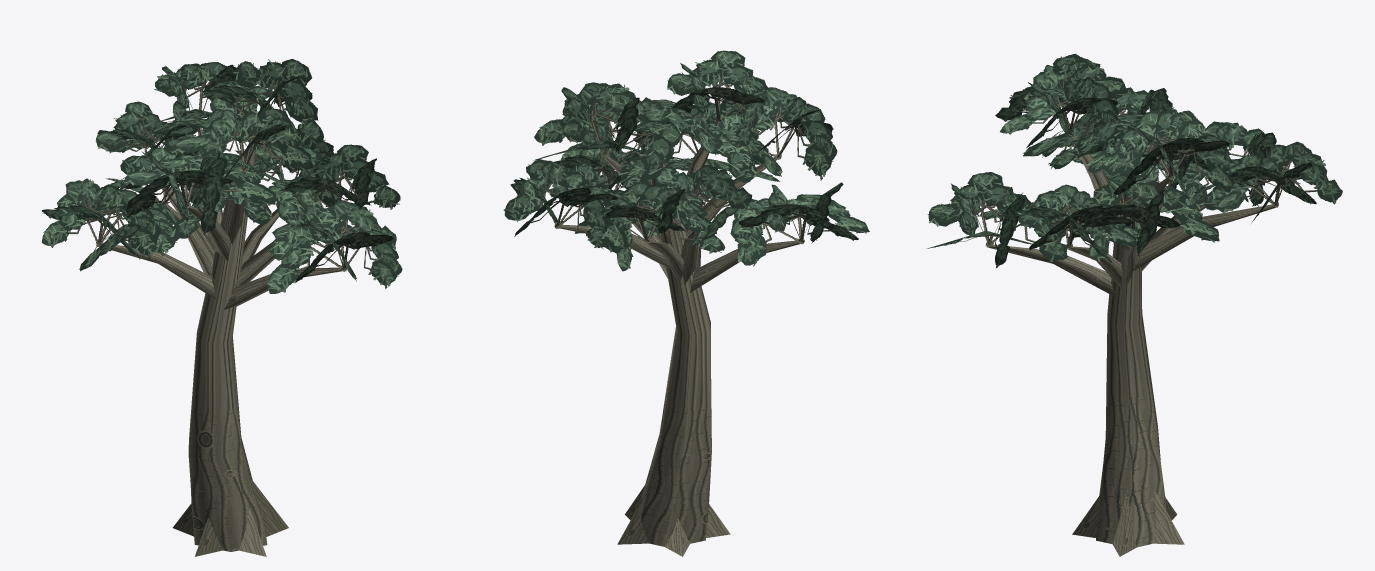
File: highland-stone-pine-near.glb
The picture shows the model from 3 angles, left to right: view 1: azimuth 30°, elevation 25°; view 2: azimuth 150°, elevation 25°; view 3: azimuth 270°, elevation 25°; orthographic projection.
Visible parts, largest first — view 1: Highland stone pine near v3 runtime; view 2: Highland stone pine near v3 runtime; view 3: Highland stone pine near v3 runtime.
Part boxes in pixels (left/top/right/bottom): Highland stone pine near v3 runtime: left=42, top=59, right=402, bottom=556; Highland stone pine near v3 runtime: left=503, top=50, right=869, bottom=556; Highland stone pine near v3 runtime: left=926, top=53, right=1342, bottom=556.
Bounding box in the file's own units: 6.27 × 7.83 × 6.91.
1 material, 1 textured.
